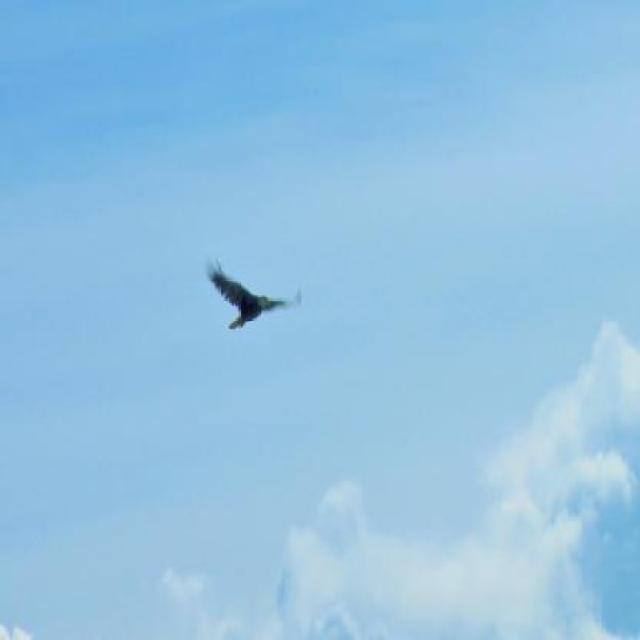bird: (201, 248, 308, 344)
